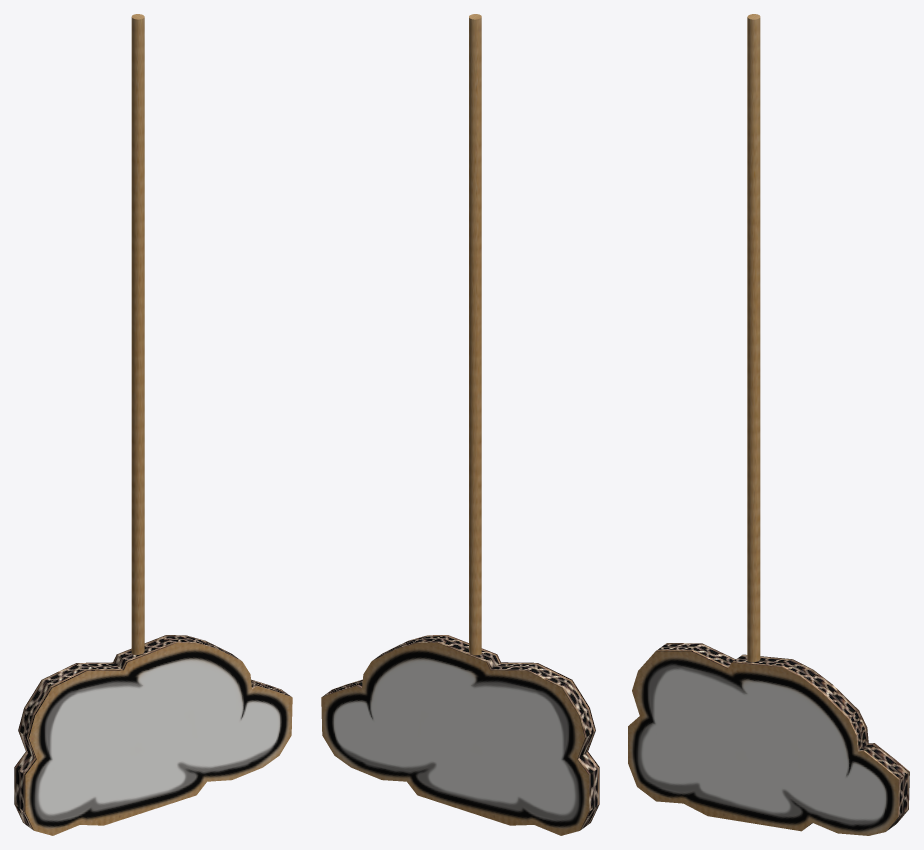
Rendered from Cloud.fbx.
3 views of the same model, side by side, from view 1: azimuth 30°, elevation 25°; view 2: azimuth 150°, elevation 25°; view 3: azimuth 330°, elevation 25° (orthographic).
Parts seen in each view (by area): view 1: Texture; view 2: Texture; view 3: Texture.
Part boxes in pixels (x1,y1,x2,y2): Texture: [14, 14, 292, 835]; Texture: [321, 14, 599, 835]; Texture: [628, 14, 909, 835].
Bounding box in the file's own units: 84.33 × 240 × 5.95.
